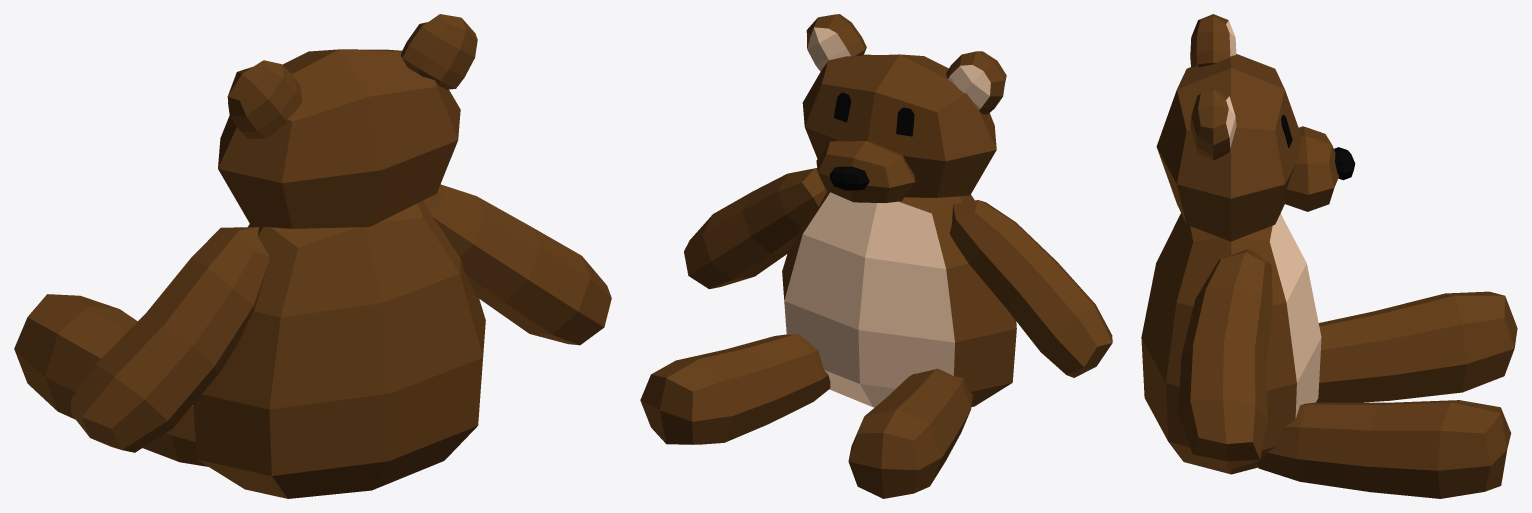
File: Ours_en_peluche_gamejam.fbx
3 renders of one model, left to right at view 1: azimuth 30°, elevation 25°; view 2: azimuth 150°, elevation 25°; view 3: azimuth 270°, elevation 25°, orthographic. The views are drawn at different scales.
Parts seen in each view (by area): view 1: Ours en peluche; view 2: Ours en peluche; view 3: Ours en peluche.
Boxes of the visible parts, <box> form: Ours en peluche: <box>14,14,611,498</box>; Ours en peluche: <box>640,14,1112,498</box>; Ours en peluche: <box>1141,14,1517,498</box>.
Size of the model in its own units: 178 by 146 by 125.
